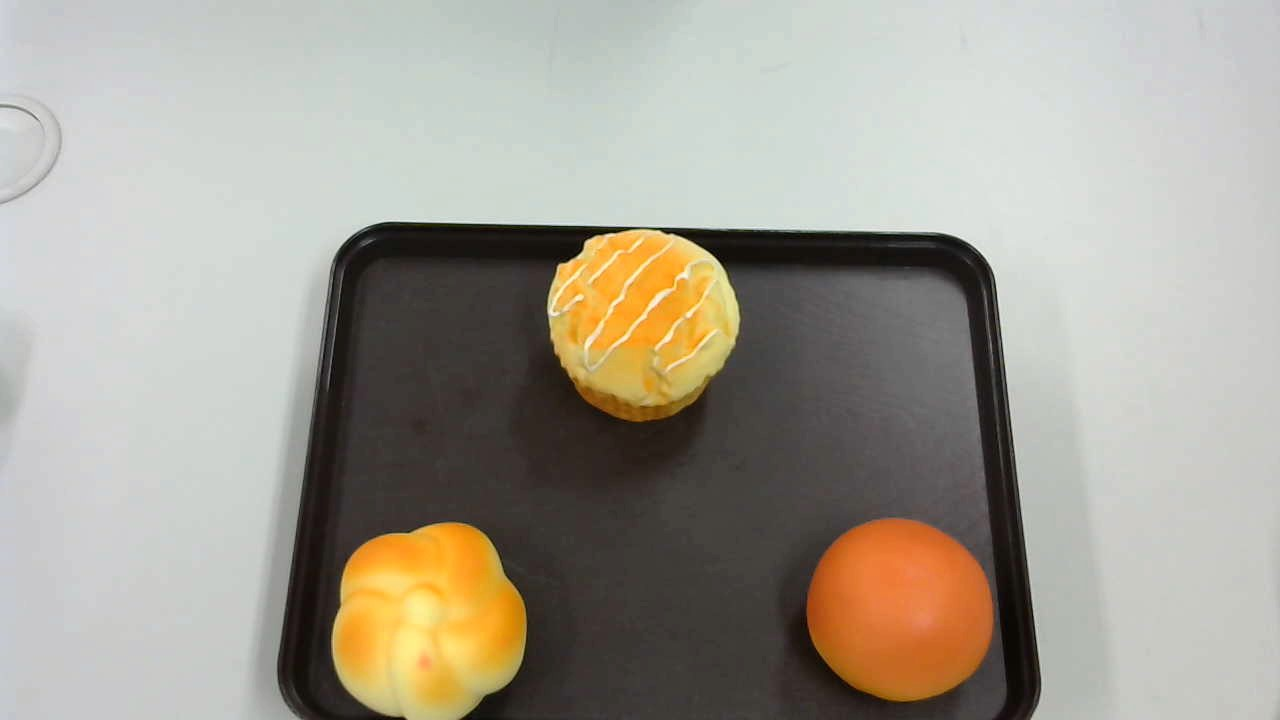bun: (805, 515, 994, 702)
cupcake: (548, 229, 741, 421)
twist bread: (332, 521, 528, 720)
